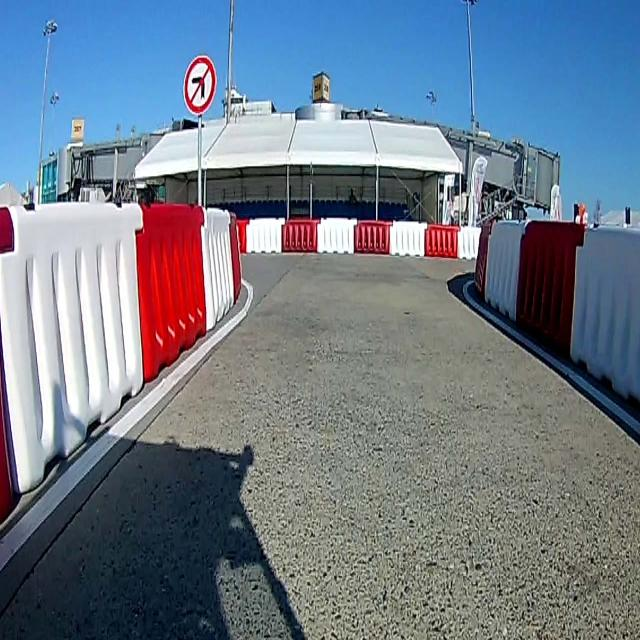soladonulmez: (183, 51, 217, 113)
